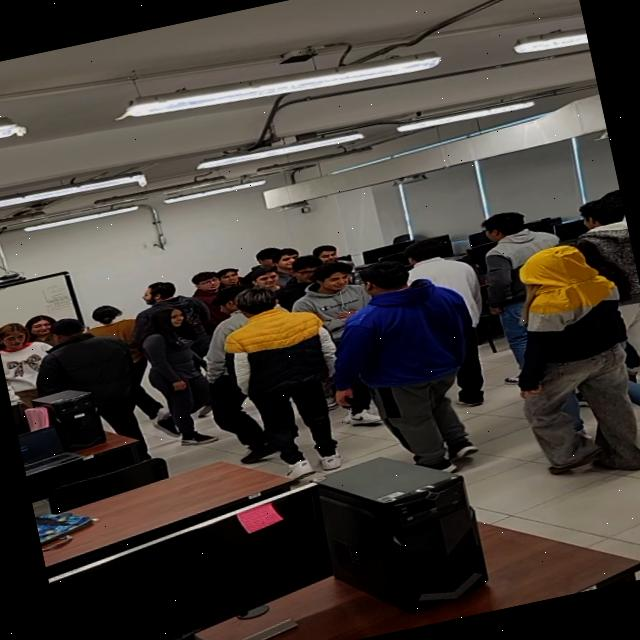Persona: (324, 250, 496, 492), (494, 232, 640, 497), (217, 273, 351, 485), (23, 305, 153, 476), (142, 296, 232, 446), (578, 189, 640, 380), (476, 204, 554, 348), (0, 318, 45, 413)
